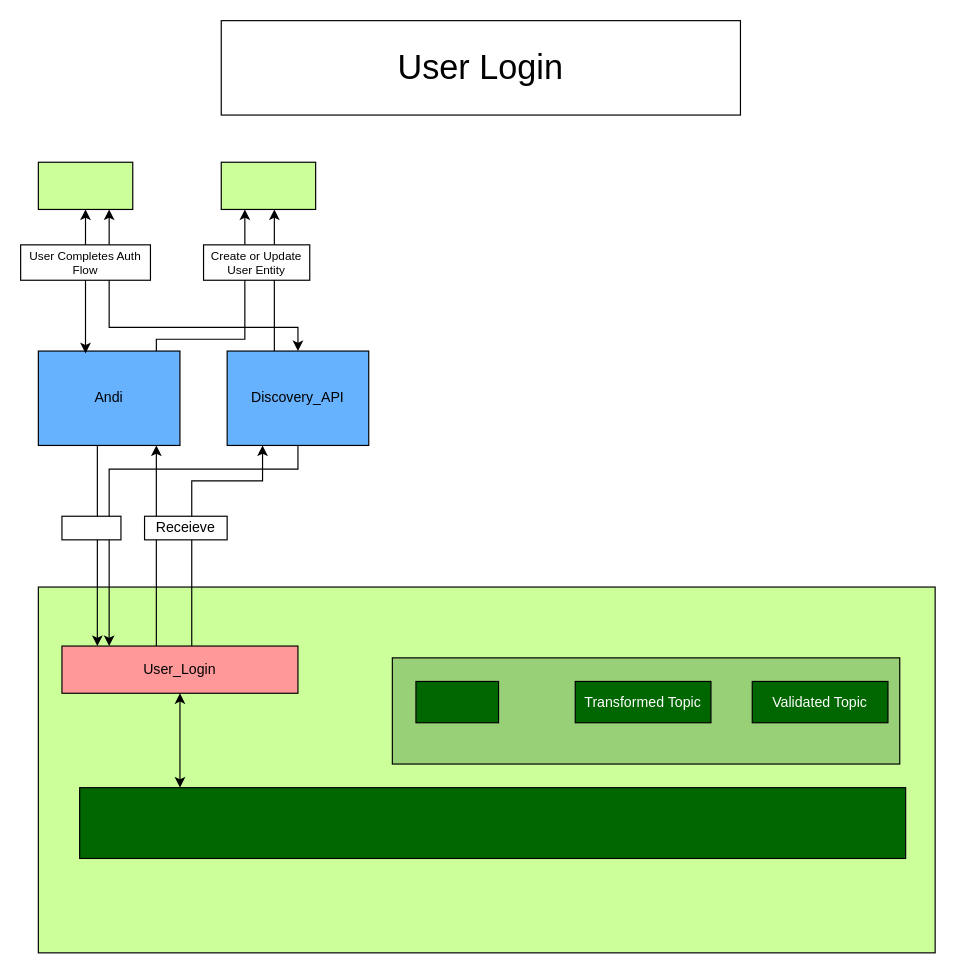
This 956x973 diagram has some shape labels left out. Each missing label, with the centre of its shape:
Auth0: point (85, 185)
Event Stream: point (492, 822)
Postgres: point (268, 185)
Raw Topic: point (457, 701)
Send: point (91, 527)
